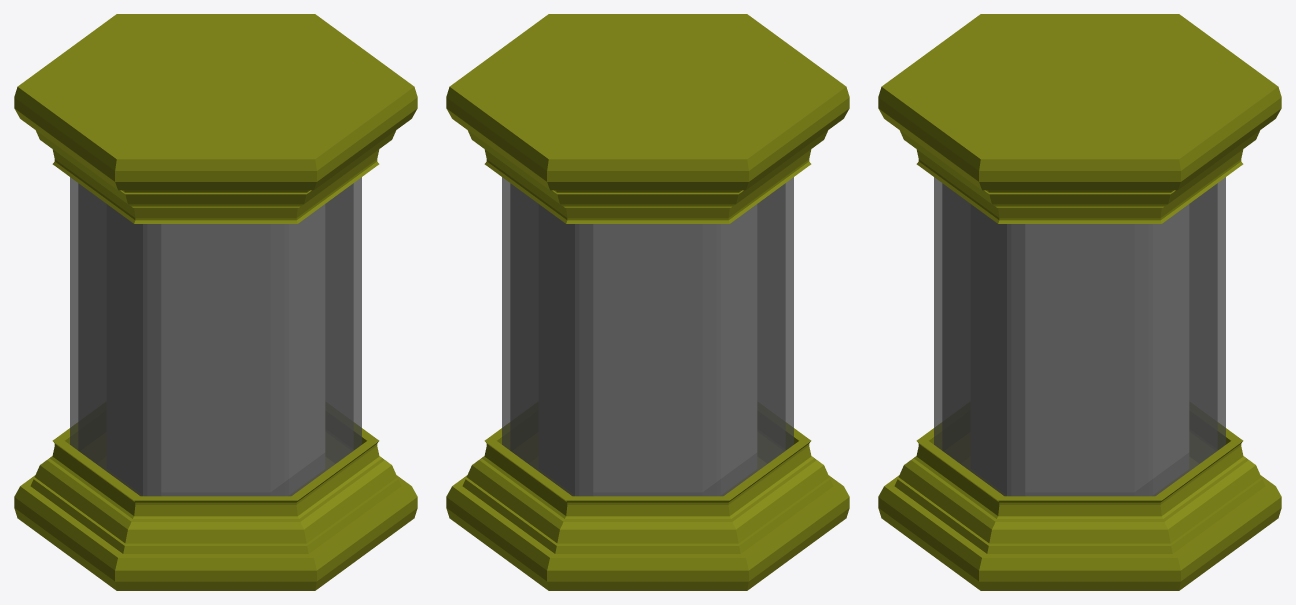
Rendered from SM_BarrelLiquid.fbx.
3 views of the same model, side by side, from view 1: azimuth 30°, elevation 25°; view 2: azimuth 150°, elevation 25°; view 3: azimuth 270°, elevation 25° (orthographic).
Visible parts, largest first — view 1: SM_Barrel, SM_Liquid_Barrel; view 2: SM_Barrel, SM_Liquid_Barrel; view 3: SM_Barrel, SM_Liquid_Barrel.
Boxes of the visible parts, left/top/right/bottom form: SM_Barrel: left=14, top=14, right=417, bottom=590; SM_Liquid_Barrel: left=107, top=205, right=324, bottom=492; SM_Barrel: left=446, top=14, right=849, bottom=590; SM_Liquid_Barrel: left=539, top=205, right=756, bottom=492; SM_Barrel: left=878, top=14, right=1281, bottom=590; SM_Liquid_Barrel: left=971, top=205, right=1188, bottom=492.
Bounding box in the file's own units: 50.76 × 69.19 × 58.61.
